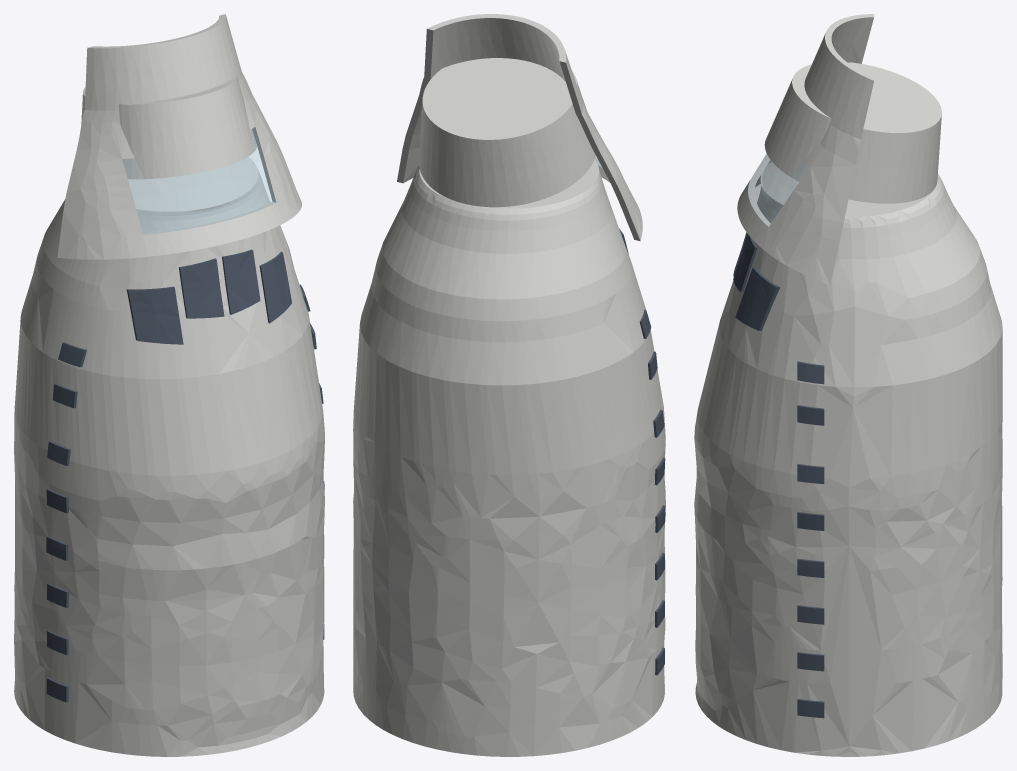
The model's file is cockpit04_inline_droop_cockpit_droop.glb.
The picture shows the model from 3 angles, left to right: view 1: azimuth 30°, elevation 25°; view 2: azimuth 150°, elevation 25°; view 3: azimuth 270°, elevation 25°; orthographic projection.
Parts seen in each view (by area): view 1: fuselage, visor_frame, windows, nose_hinge_section, visor_glass; view 2: fuselage, nose_hinge_section, visor_frame, windows; view 3: fuselage, visor_frame, nose_hinge_section, windows, visor_glass.
Boxes of the visible parts, x1,y1,x2,y2 form: fuselage: (14, 157, 324, 756); visor_frame: (57, 14, 301, 259); windows: (46, 249, 324, 702); nose_hinge_section: (81, 76, 256, 179); visor_glass: (122, 127, 275, 234); fuselage: (353, 159, 665, 756); nose_hinge_section: (419, 58, 595, 207); visor_frame: (397, 14, 642, 241); windows: (619, 228, 665, 675); fuselage: (694, 162, 1002, 756); visor_frame: (737, 14, 874, 284); nose_hinge_section: (764, 62, 941, 203); windows: (733, 232, 824, 718); visor_glass: (748, 154, 809, 226).
Size of the model in its own units: 2.52 by 5.88 by 2.51.
